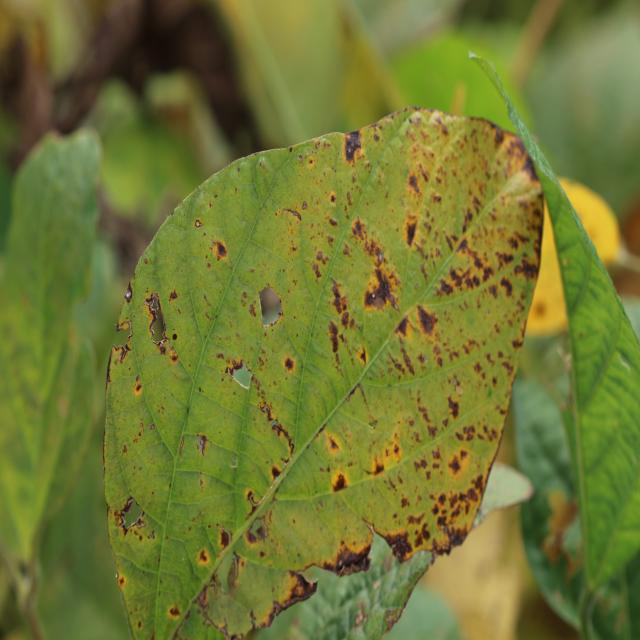Bacterial_Blight: (434, 476, 484, 524), (365, 263, 401, 312), (281, 569, 320, 611), (329, 540, 369, 577), (370, 434, 405, 475), (265, 412, 295, 458), (415, 290, 444, 334), (386, 530, 413, 561), (329, 277, 350, 316), (246, 517, 270, 544), (447, 449, 470, 477), (344, 130, 362, 162), (215, 523, 232, 553), (105, 343, 117, 383), (327, 320, 340, 354), (446, 395, 461, 422), (405, 216, 418, 246), (143, 296, 157, 323), (226, 358, 245, 377), (406, 171, 421, 195), (499, 275, 514, 297), (213, 240, 228, 261), (331, 472, 347, 491), (119, 496, 134, 515), (196, 434, 207, 456), (326, 435, 339, 453), (124, 282, 133, 304), (283, 356, 295, 372), (168, 604, 181, 618), (258, 401, 270, 416), (198, 549, 209, 564), (357, 347, 366, 365), (157, 340, 167, 355), (327, 215, 338, 228), (168, 289, 179, 302), (536, 302, 546, 316), (169, 351, 179, 364), (133, 381, 142, 395), (179, 435, 185, 456), (249, 303, 256, 317), (328, 192, 336, 204), (117, 575, 125, 587), (377, 250, 384, 263), (147, 530, 156, 540), (195, 219, 202, 228), (302, 201, 308, 210), (122, 444, 127, 454), (137, 620, 142, 629), (172, 333, 177, 341), (298, 154, 303, 162), (150, 423, 155, 430), (144, 258, 148, 264)
Soybean: (104, 109, 544, 640)
